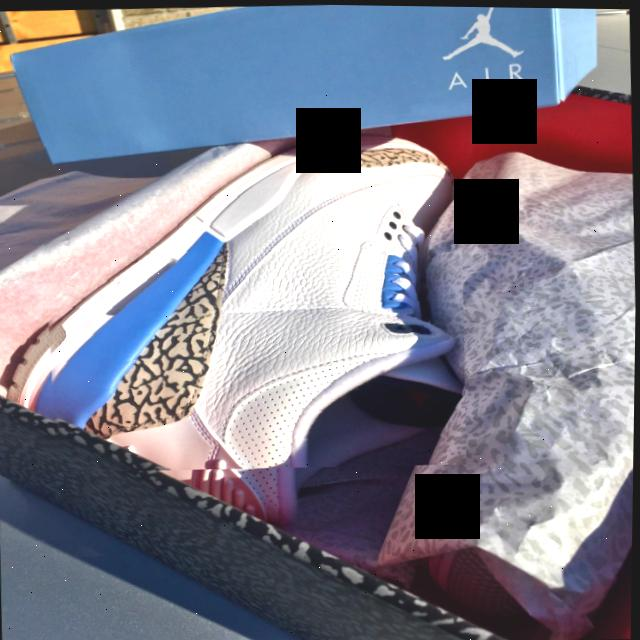shoe: (34, 117, 471, 477)
